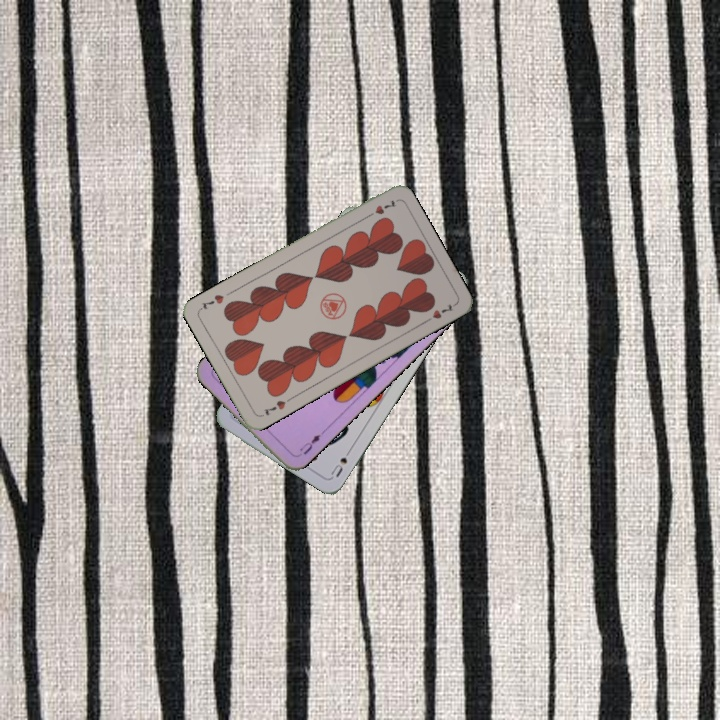EU: (296, 430, 323, 457)
H7: (362, 196, 399, 221), (260, 393, 294, 418)
SU: (327, 443, 355, 480)
